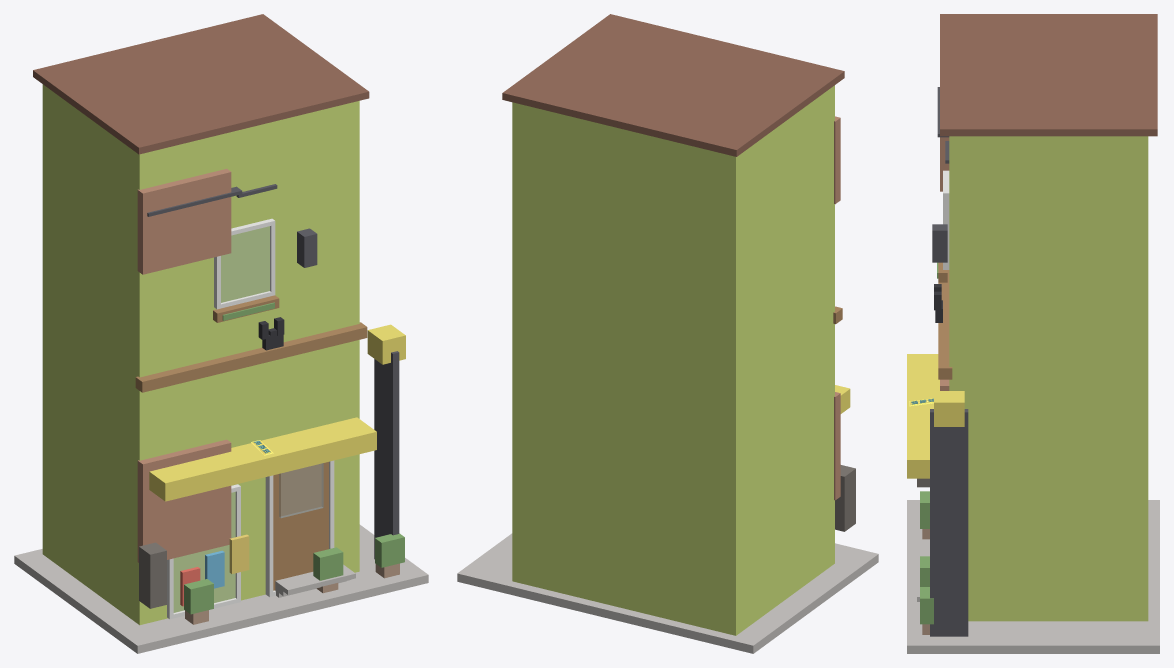
File: lime_shop.glb
3 views of the same model, side by side, from view 1: azimuth 30°, elevation 25°; view 2: azimuth 150°, elevation 25°; view 3: azimuth 270°, elevation 25° (orthographic). The views are drawn at different scales.
Visible parts, largest first — view 1: LimeShop_Shell, LimeShop_RoofCap, LimeShop_Sidewalk, LimeShop_Awning, LimeShop_Brick_Upper, LimeShop_Door, LimeShop_Brick_Lower, LimeShop_LampPost, LimeShop_Window, LimeShop_Ledge, LimeShop_Display, LimeShop_DoorGlass (+12 smaller); view 2: LimeShop_Shell, LimeShop_RoofCap, LimeShop_Sidewalk, LimeShop_Board, LimeShop_Brick_Lower; view 3: LimeShop_Shell, LimeShop_RoofCap, LimeShop_Sidewalk, LimeShop_LampPost, LimeShop_Awning, LimeShop_LampHead, LimeShop_Ledge, LimeShop_WallLantern, LimeShop_Window, LimeShop_Plant1, LimeShop_Plant0.
Part boxes in pixels (x1,y1,x2,y2): LimeShop_Shell: (42,84,359,625); LimeShop_RoofCap: (33,14,369,154); LimeShop_Sidewalk: (14,524,428,653); LimeShop_Awning: (149,417,376,501); LimeShop_Brick_Upper: (137,168,231,274); LimeShop_Door: (265,460,334,597); LimeShop_Brick_Lower: (137,439,231,562); LimeShop_LampPost: (374,351,399,559); LimeShop_Window: (214,218,275,309); LimeShop_Ledge: (135,322,367,392); LimeShop_Display: (167,484,240,619); LimeShop_DoorGlass: (279,463,323,517); LimeShop_Shell: (512,85,834,635); LimeShop_RoofCap: (502,14,844,156); LimeShop_Sidewalk: (457,533,878,653); LimeShop_Board: (835,465,855,531); LimeShop_Brick_Lower: (834,392,840,500); LimeShop_Shell: (949,136,1148,621); LimeShop_RoofCap: (940,14,1157,136); LimeShop_Sidewalk: (907,500,1159,653); LimeShop_LampPost: (930,409,968,636); LimeShop_Awning: (907,354,939,478); LimeShop_LampHead: (934,391,964,426); LimeShop_Ledge: (938,270,952,379); LimeShop_WallLantern: (932,224,947,262); LimeShop_Window: (943,170,949,269); LimeShop_Plant1: (920,587,933,624); LimeShop_Plant0: (920,491,929,528).
Size of the model in its own units: 4.5 by 7.24 by 3.3.
